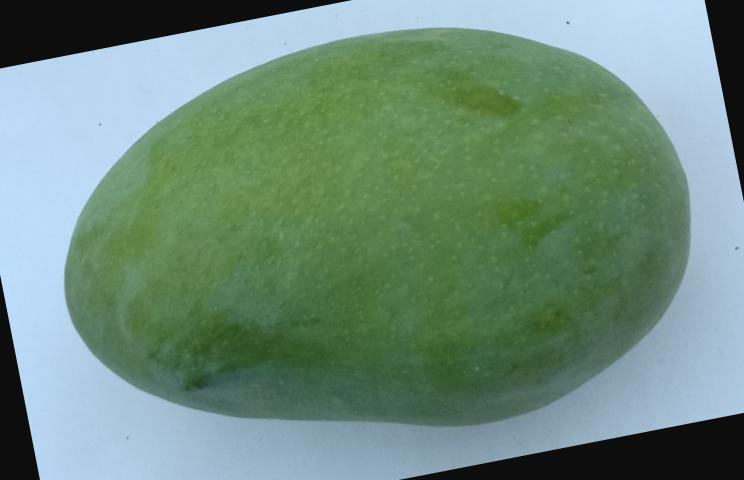Mango Unripe: (2, 0, 744, 480)
